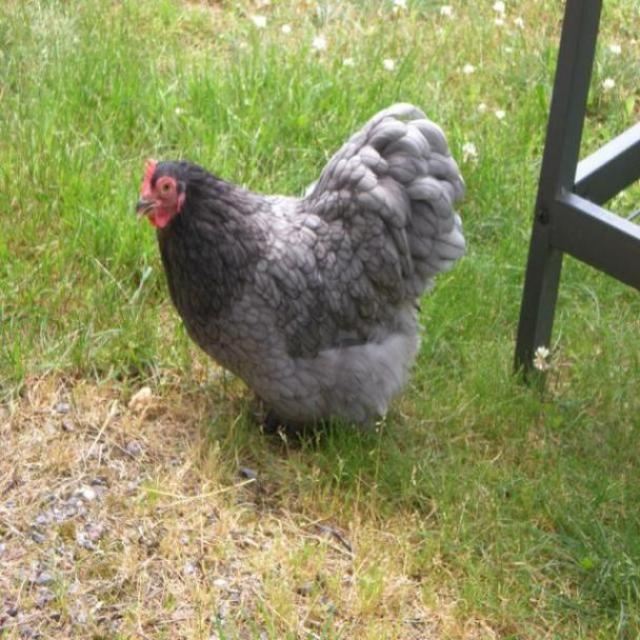Chicken: (126, 105, 491, 454)
